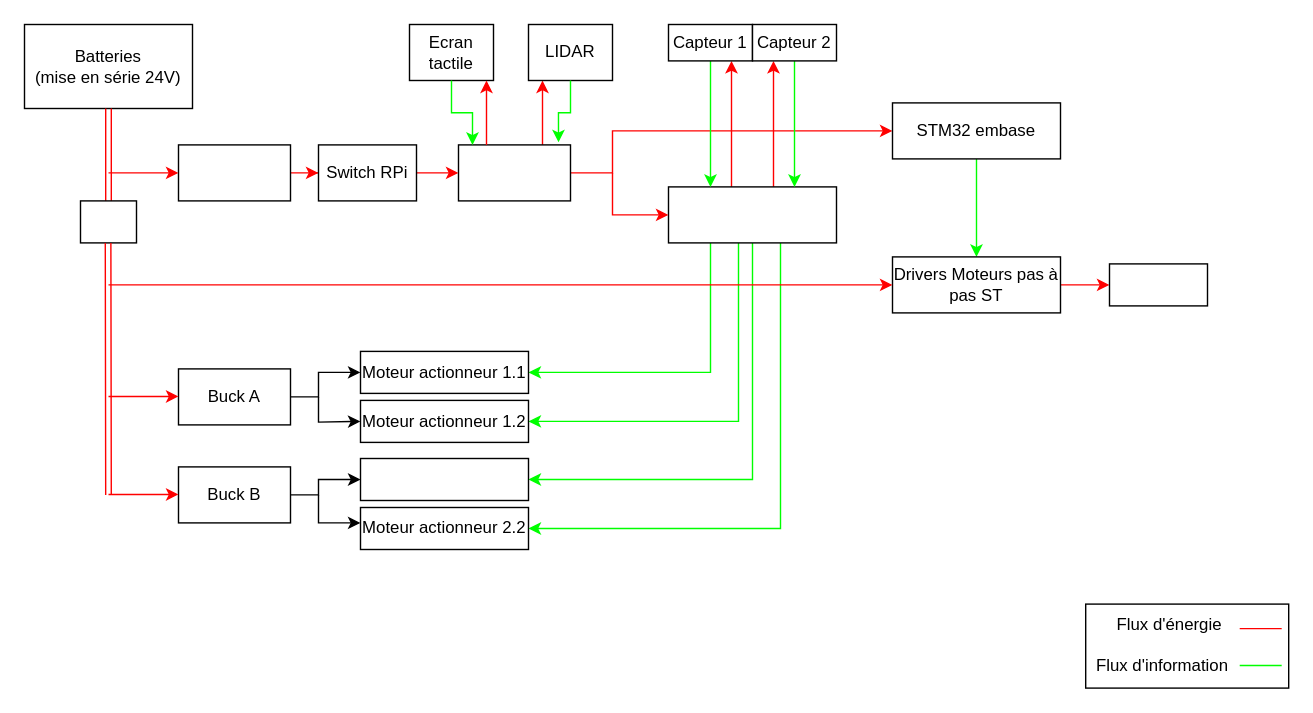
The diagram is 1313 pixels wide and 713 high, and some of its shapes have lost their labels. The centre of each missing label's shape, as x and y in pixels:
"BAU" belongs at [107,221].
"Buck RPi" belongs at [233,172].
"Moteur actionneur 2.1" belongs at [443,478].
"Moteurs" belongs at [1158,284].
"Raspberrypi" belongs at [513,172].
"STM32 actionneur" belongs at [751,214].
